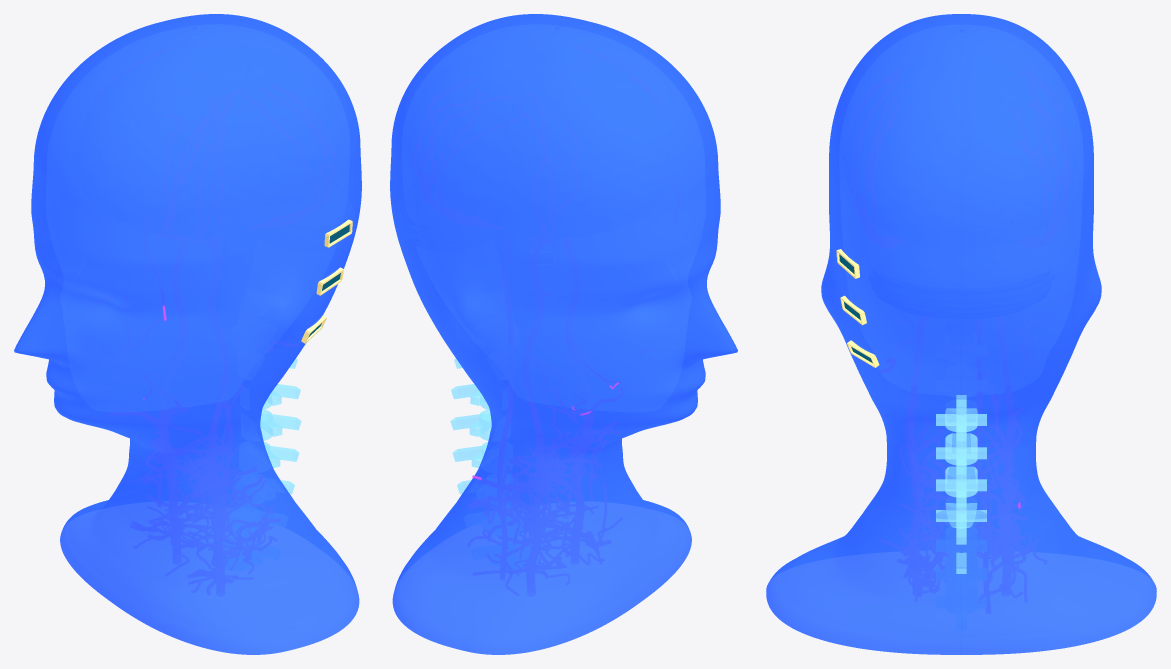
Rendered from guide_head.glb.
3 views of the same model, side by side, from view 1: azimuth 30°, elevation 25°; view 2: azimuth 150°, elevation 25°; view 3: azimuth 270°, elevation 25° (orthographic).
Parts seen in each view (by area): view 1: skin, spine; view 2: skin, spine; view 3: skin, spine.
Part boxes in pixels (x1=…): skin: x1=14, y1=14, x2=361, y2=654; spine: x1=260, y1=358, x2=301, y2=494; skin: x1=390, y1=14, x2=737, y2=654; spine: x1=450, y1=358, x2=491, y2=494; skin: x1=766, y1=14, x2=1156, y2=654; spine: x1=936, y1=395, x2=986, y2=573.
Bounding box in the file's own units: 0.228 × 0.3651 × 0.23.
